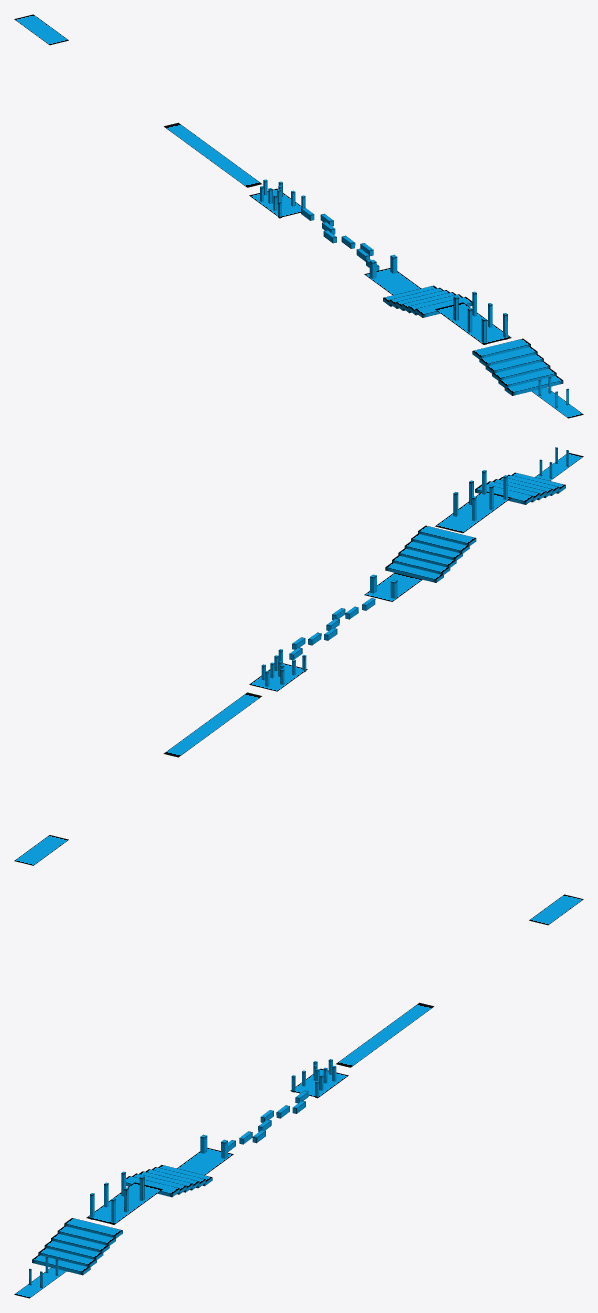
File: Background1.FBX
3 views of the same model, one above another, from view 1: azimuth 30°, elevation 25°; view 2: azimuth 150°, elevation 25°; view 3: azimuth 330°, elevation 25° (orthographic).
Parts seen in each view (by area): view 1: Box017, Box008, Box015, Box018, Box016, Box007, Box001, Box006; view 2: Box017, Box008, Box015, Box018, Box016, Box049, Box044, Box048; view 3: Box017, Box008, Box015, Box018, Box007, Box016, Box001, Box006.
Boxes of the visible parts, bbox=[...] form: Box017: bbox=[164, 122, 261, 187]; Box008: bbox=[435, 302, 511, 344]; Box015: bbox=[364, 268, 420, 295]; Box018: bbox=[14, 14, 68, 45]; Box016: bbox=[249, 188, 301, 217]; Box007: bbox=[472, 338, 530, 359]; Box001: bbox=[531, 387, 583, 418]; Box006: bbox=[479, 346, 537, 366]; Box017: bbox=[163, 692, 261, 757]; Box008: bbox=[435, 491, 511, 533]; Box015: bbox=[364, 572, 422, 601]; Box018: bbox=[14, 835, 68, 865]; Box016: bbox=[249, 663, 307, 691]; Box049: bbox=[418, 525, 476, 545]; Box044: bbox=[385, 562, 443, 582]; Box048: bbox=[411, 533, 469, 553]; Box017: bbox=[336, 1002, 433, 1067]; Box008: bbox=[86, 1182, 162, 1224]; Box015: bbox=[177, 1148, 233, 1175]; Box018: bbox=[529, 894, 583, 925]; Box007: bbox=[64, 1218, 122, 1238]; Box016: bbox=[290, 1068, 348, 1097]; Box001: bbox=[14, 1267, 66, 1298]; Box006: bbox=[57, 1226, 115, 1245].
Bounding box in the file's own units: 55736 × 1043403 × 48472.
Materials: 1 (1 with a texture image).
